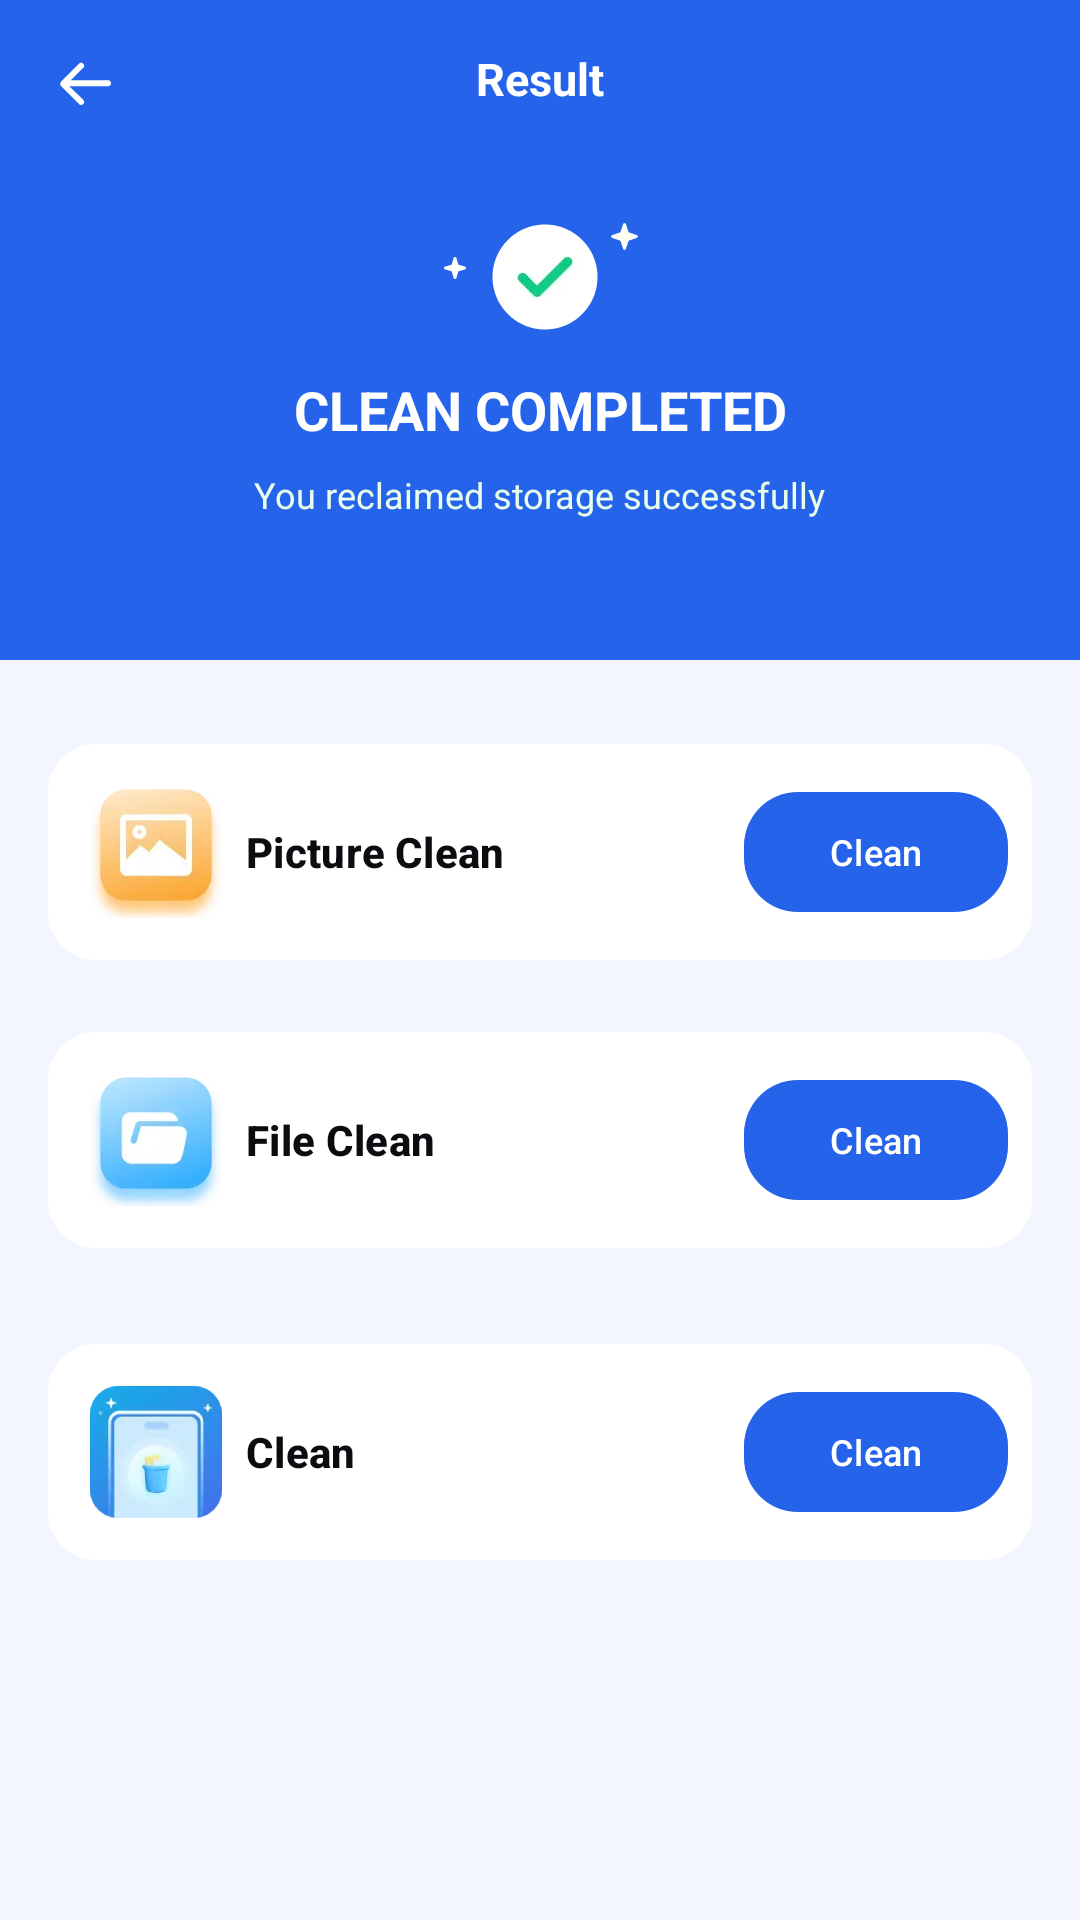

Screen size 1080px x 1920px. Icon name, then its center in pixels as point (x, y):
back: point (85, 83)
reult yes: point (541, 276)
